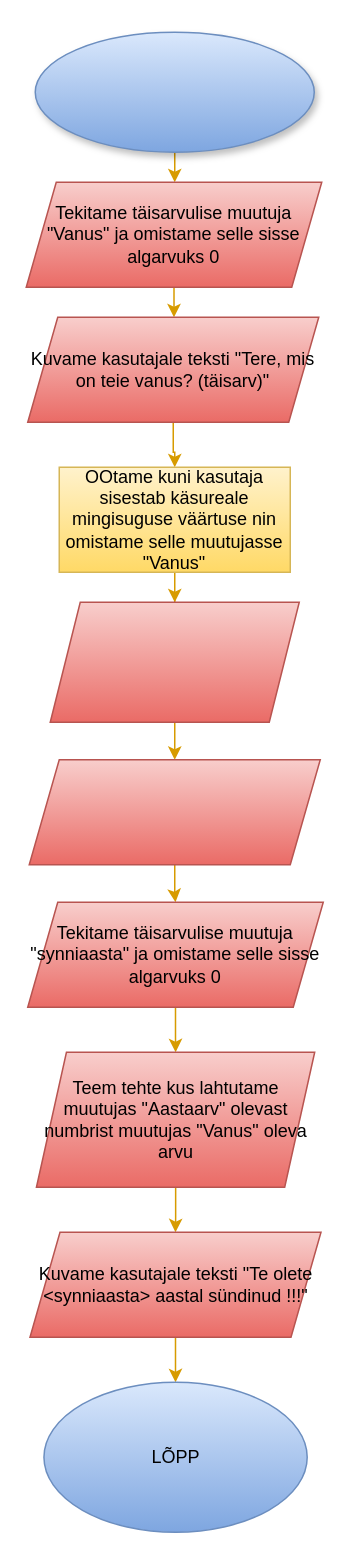
The diagram is 350 pixels wide and 1559 high, and some of its shapes have lost their labels. Each missing label, with the centre of its shape:
Kuvame kasutajale teksti "Mis on hetkel praegune kalendriaasta (täisarv)": [174,811]
START: [175,94]
Tekitame täisarvulise muutuja "Aastaarv" ja omistame selle sisse algarvuks 0: [174,661]
